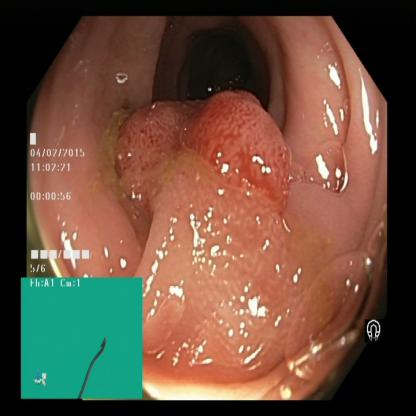Labels: (20, 279, 142, 398), (23, 130, 112, 280), (354, 307, 392, 355)
Polyps: (129, 88, 314, 280)
